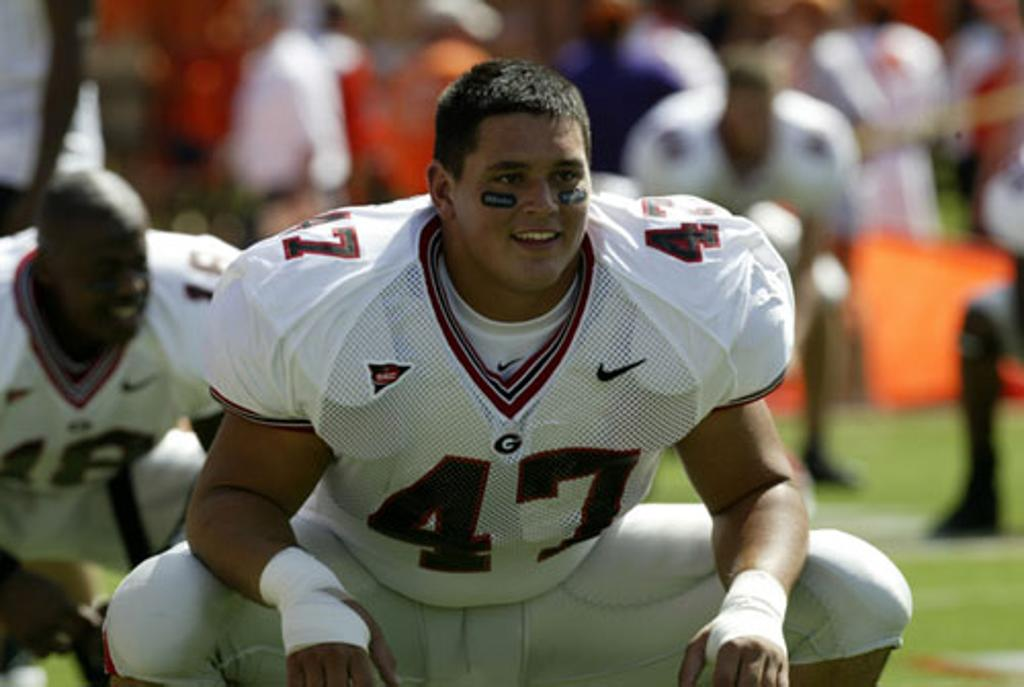face: (480, 116, 586, 286), (58, 210, 150, 332)
